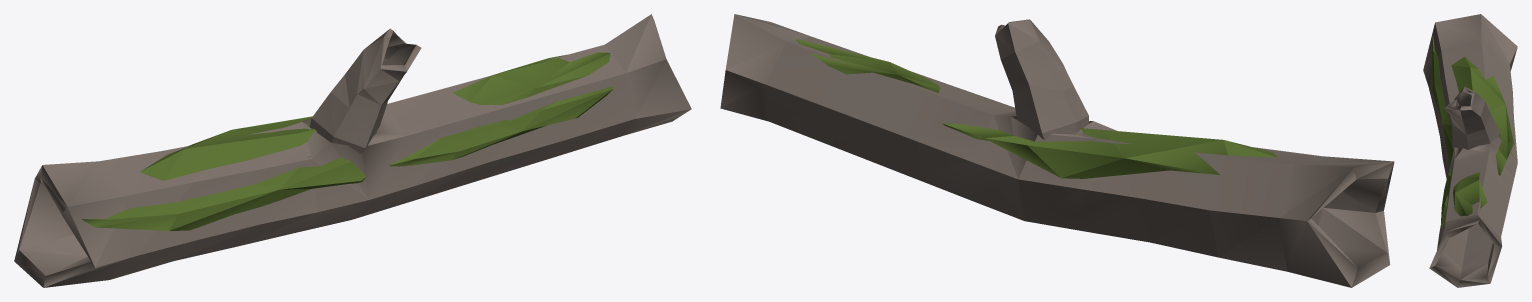
Rendered from Obstacle_2_Egee_2.fbx.
3 views of the same model, side by side, from view 1: azimuth 30°, elevation 25°; view 2: azimuth 150°, elevation 25°; view 3: azimuth 270°, elevation 25° (orthographic). The views are drawn at different scales.
Visible parts, largest first — view 1: Log 2; view 2: Log 2; view 3: Log 2.
Boxes of the visible parts, <box> form: Log 2: <box>14,14,691,287</box>; Log 2: <box>720,14,1394,287</box>; Log 2: <box>1423,14,1517,287</box>.
Bounding box in the file's own units: 116 × 31.75 × 21.54.
